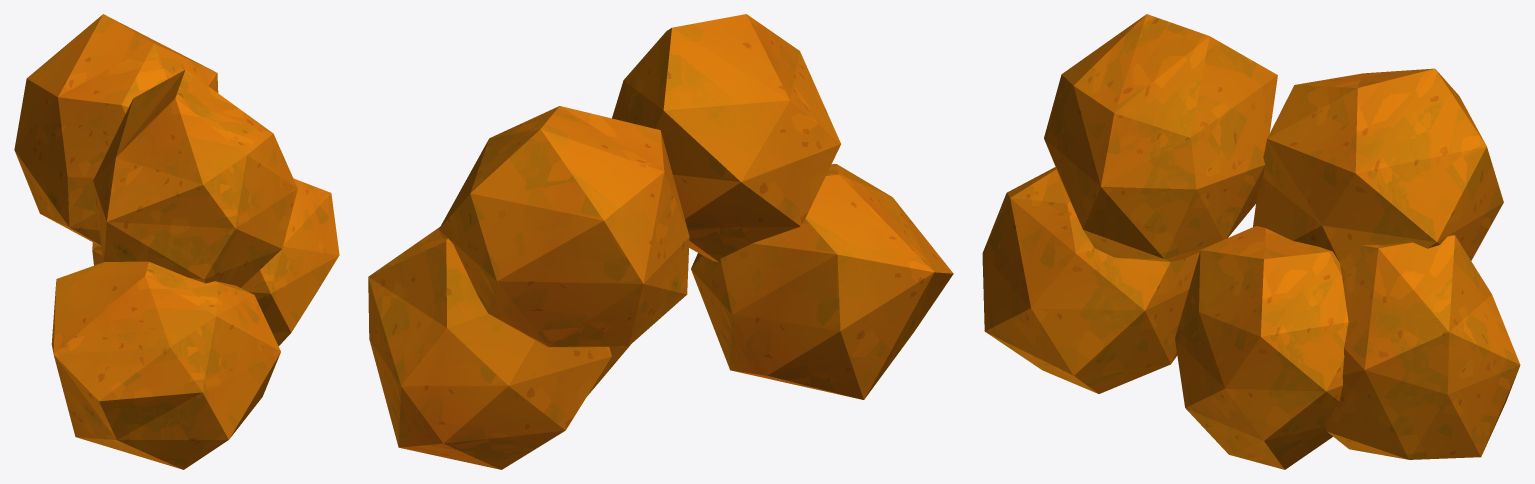
File: gf_int_bigbolders3_1.glb
3 renders of one model, left to right at view 1: azimuth 30°, elevation 25°; view 2: azimuth 150°, elevation 25°; view 3: azimuth 270°, elevation 25°, orthographic. The views are drawn at different scales.
Visible parts, largest first — view 1: rocks1.3; view 2: rocks1.3; view 3: rocks1.3.
Boxes of the visible parts, x1,y1,x2,y2 form: rocks1.3: (14, 14, 339, 469); rocks1.3: (368, 14, 953, 469); rocks1.3: (982, 14, 1520, 469).
Size of the model in its own units: 4.75 by 4.37 by 5.54.
Materials: 1 (1 with a texture image).
